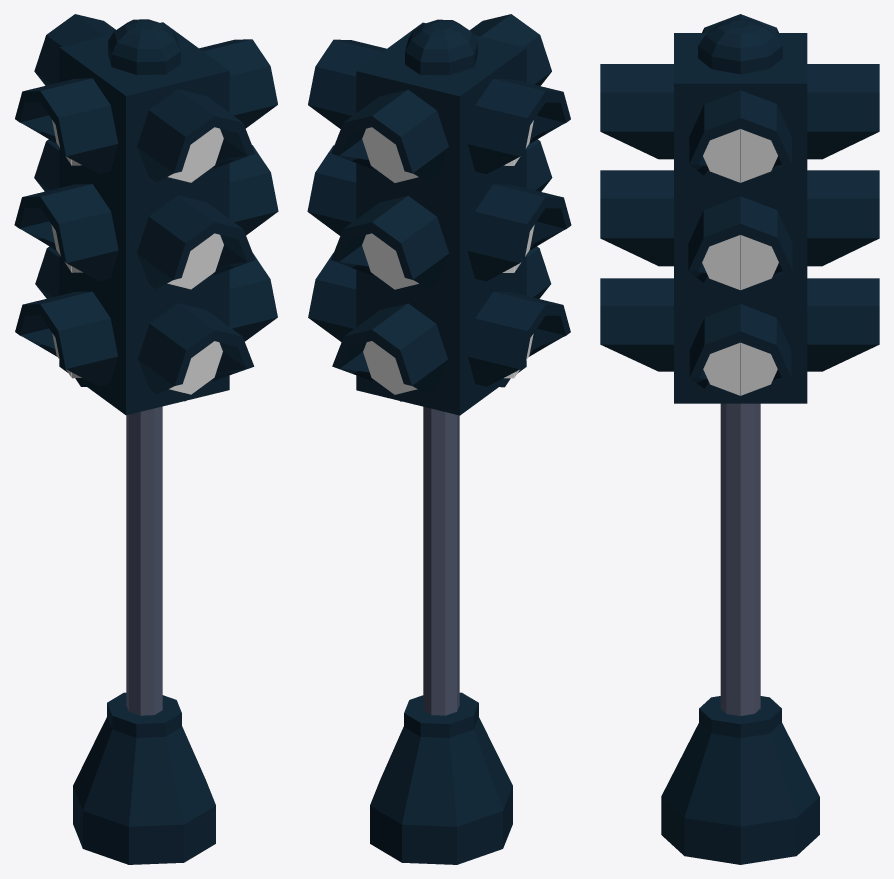
File: semaforo.fbx
The picture shows the model from 3 angles, left to right: view 1: azimuth 30°, elevation 25°; view 2: azimuth 150°, elevation 25°; view 3: azimuth 270°, elevation 25°; orthographic projection.
Parts seen in each view (by area): view 1: semaforo comun; view 2: semaforo comun; view 3: semaforo comun.
Boxes of the visible parts, x1,y1,x2,y2 form: semaforo comun: (14,14,278,864); semaforo comun: (307,14,571,864); semaforo comun: (600,14,879,864).
Bounding box in the file's own units: 635 × 2312 × 723.
